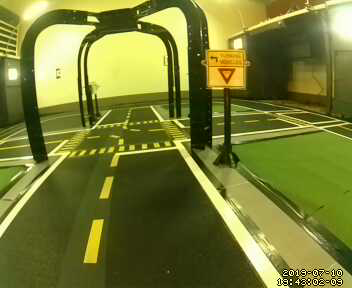Turn Yield: (206, 49, 247, 90)
